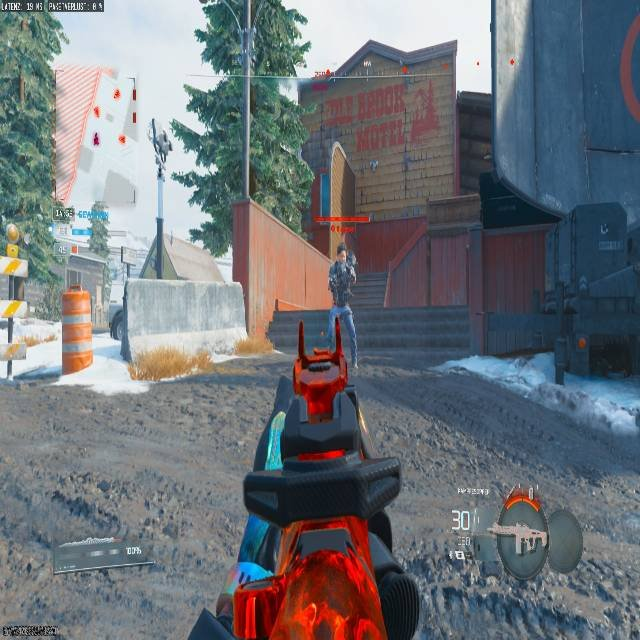head: (336, 243, 346, 258)
player: (328, 250, 358, 310)
